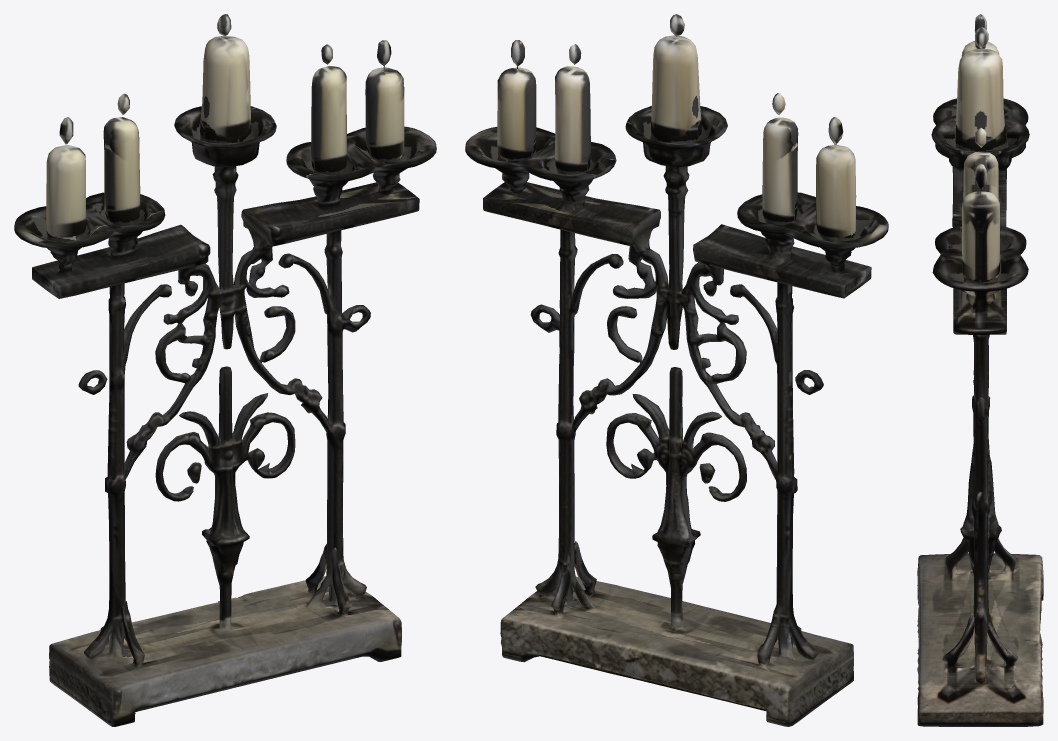
Rendered from candelabra_shrine.glb.
The picture shows the model from 3 angles, left to right: view 1: azimuth 30°, elevation 25°; view 2: azimuth 150°, elevation 25°; view 3: azimuth 270°, elevation 25°; orthographic projection. The views are drawn at different scales.
Parts seen in each view (by area): view 1: geometry_0; view 2: geometry_0; view 3: geometry_0.
Part boxes in pixels (box(x1,y1,x2,y2)): geometry_0: box(14, 14, 436, 726); geometry_0: box(465, 14, 888, 726); geometry_0: box(917, 14, 1043, 726).
Size of the model in its own units: 1.18 by 1.8 by 0.3269.
Materials: 1 (1 with a texture image).
